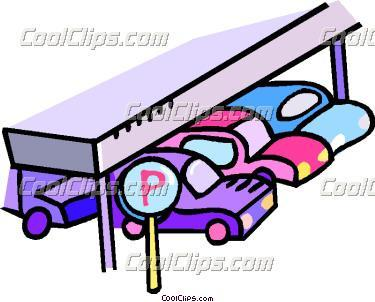car: (104, 147, 295, 246), (151, 103, 334, 191), (233, 70, 372, 151)
